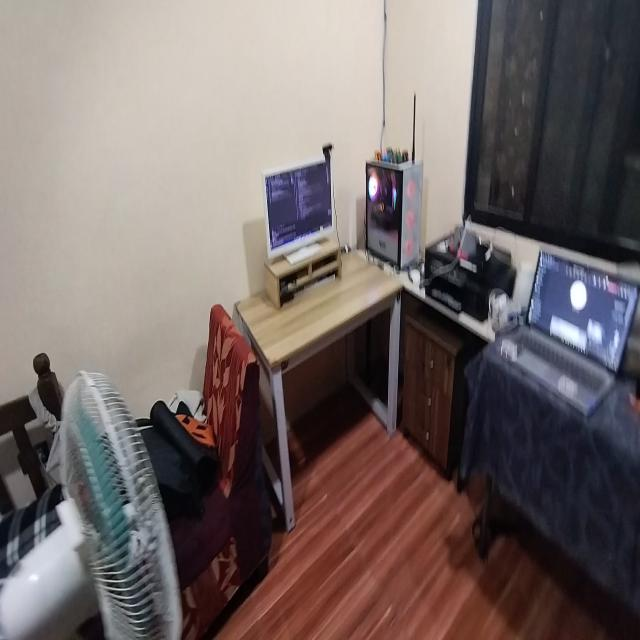table: (238, 238, 406, 518)
